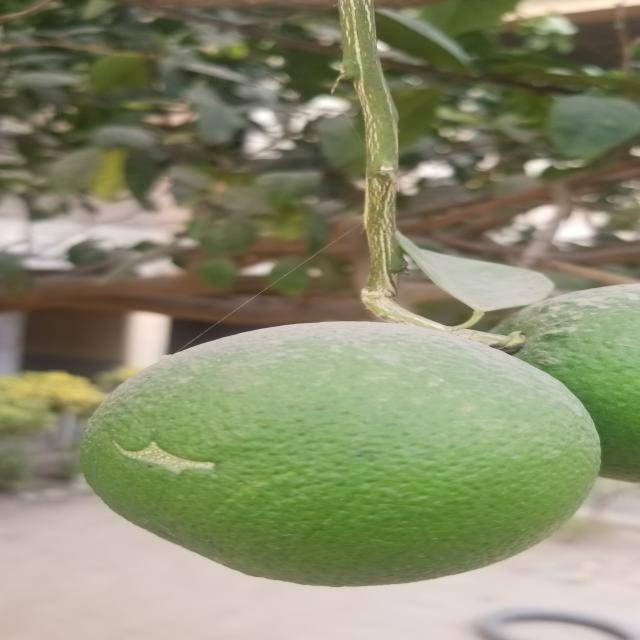agrume: (91, 316, 588, 581), (480, 282, 640, 482)
